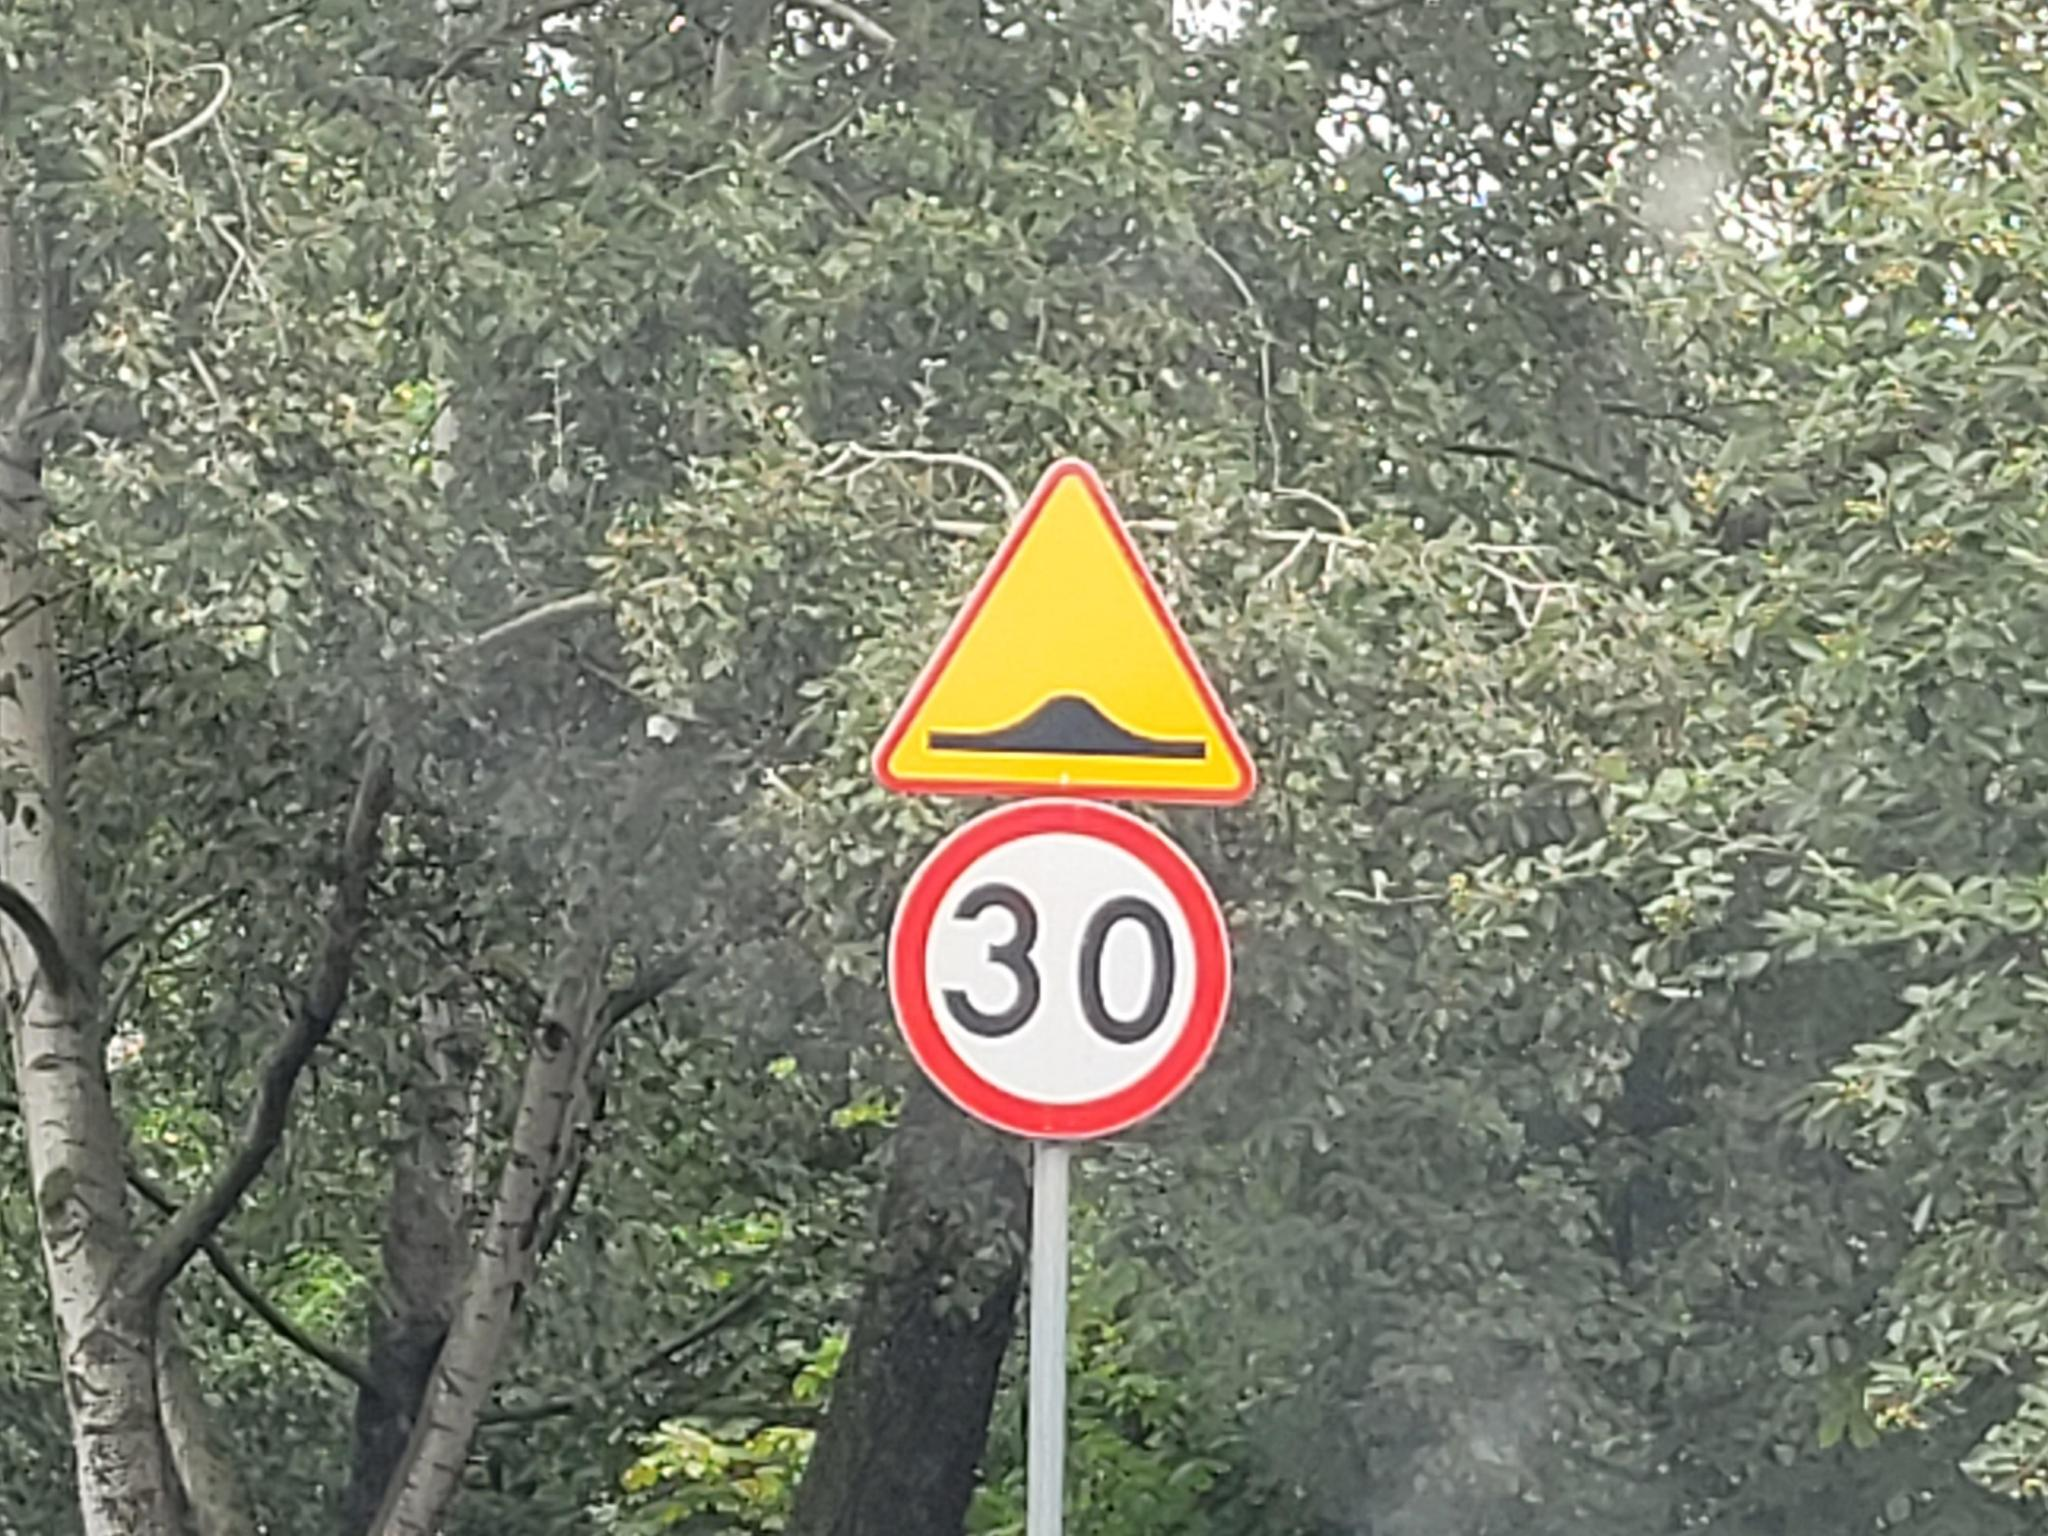prohibitory: (879, 795, 1235, 1146)
warning: (869, 450, 1264, 810)
